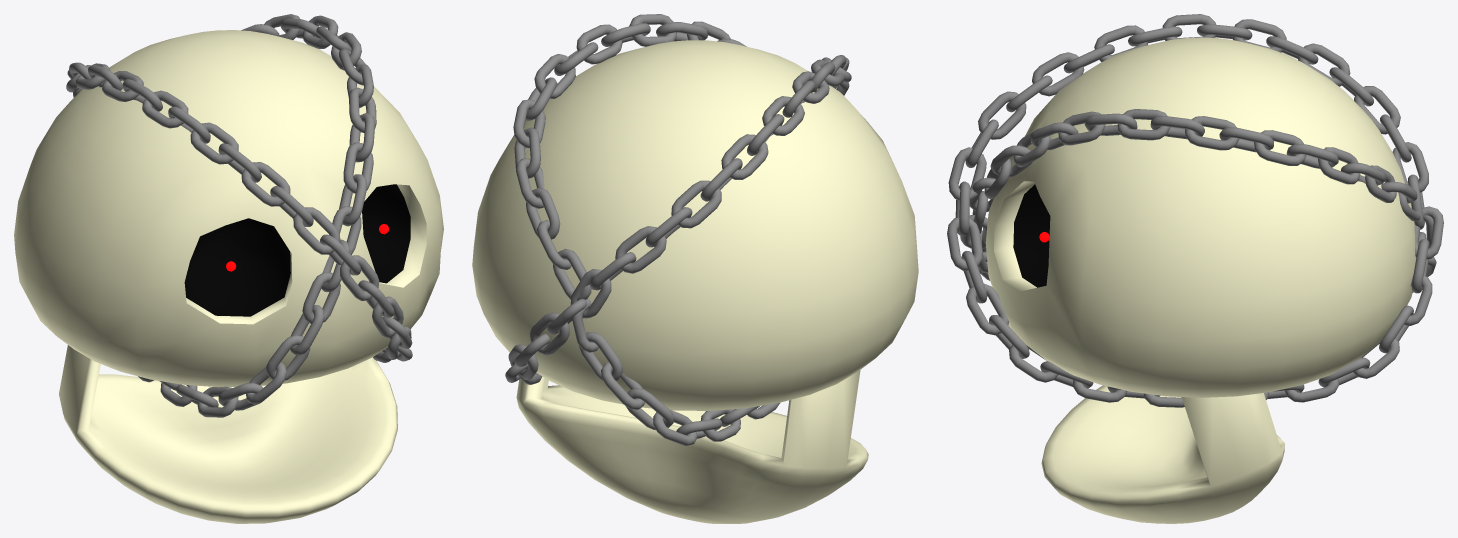
Rendered from Skull.fbx.
3 views of the same model, side by side, from view 1: azimuth 30°, elevation 25°; view 2: azimuth 150°, elevation 25°; view 3: azimuth 270°, elevation 25° (orthographic). The views are drawn at different scales.
Visible parts, largest first — view 1: SkullChain; view 2: SkullChain; view 3: SkullChain.
Part boxes in pixels (box(x1,y1,x2,y2)): SkullChain: box(14, 14, 443, 523); SkullChain: box(472, 14, 918, 523); SkullChain: box(947, 14, 1443, 523).
Bounding box in the file's own units: 93.02 × 105 × 106.
